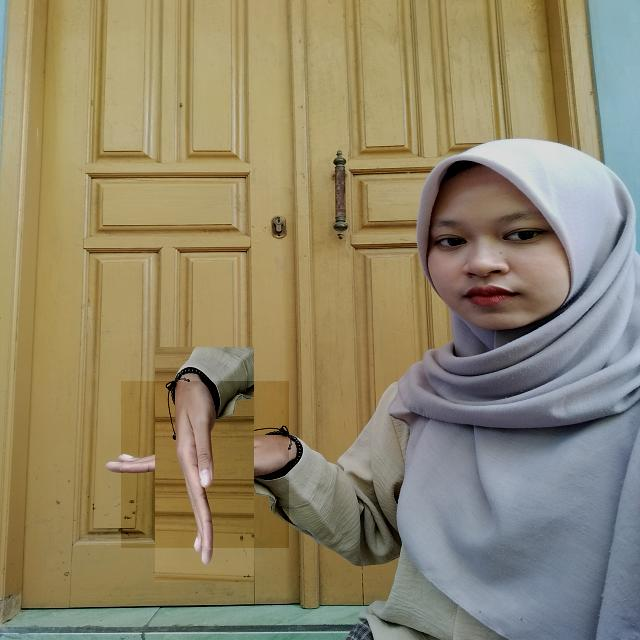adik: (121, 381, 289, 548)
